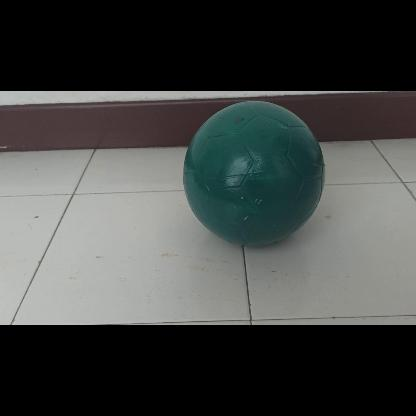green_ball: (183, 104, 328, 248)
